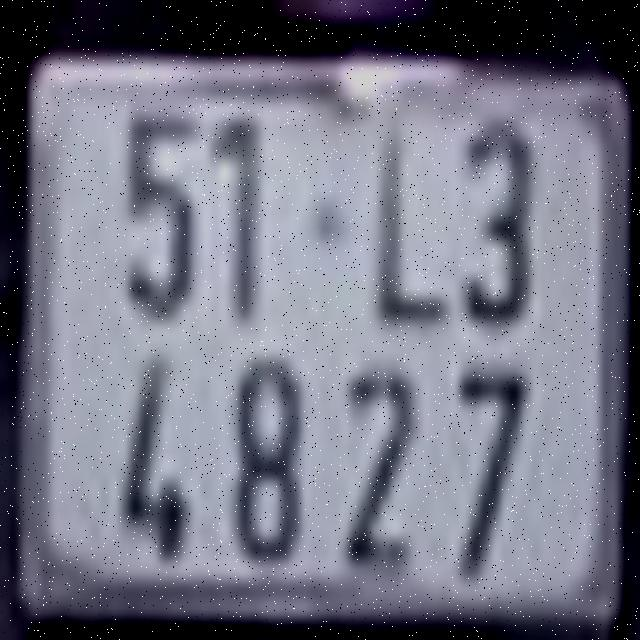1: (214, 118, 261, 320)
2: (347, 371, 414, 566)
3: (465, 119, 533, 324)
4: (124, 358, 186, 563)
5: (125, 112, 199, 319)
7: (456, 371, 527, 581)
8: (237, 362, 300, 562)
L: (376, 113, 449, 322)
